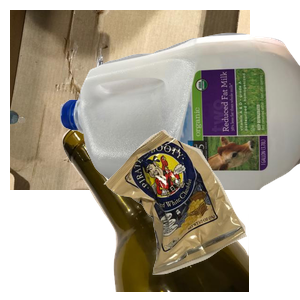cardboard: (10, 10, 250, 190)
glass: (60, 120, 300, 300)
plastic: (60, 30, 300, 210)
trash: (101, 127, 300, 300)
